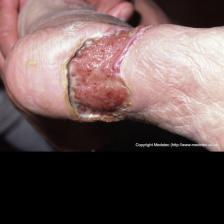Wound: (55, 21, 158, 123)
